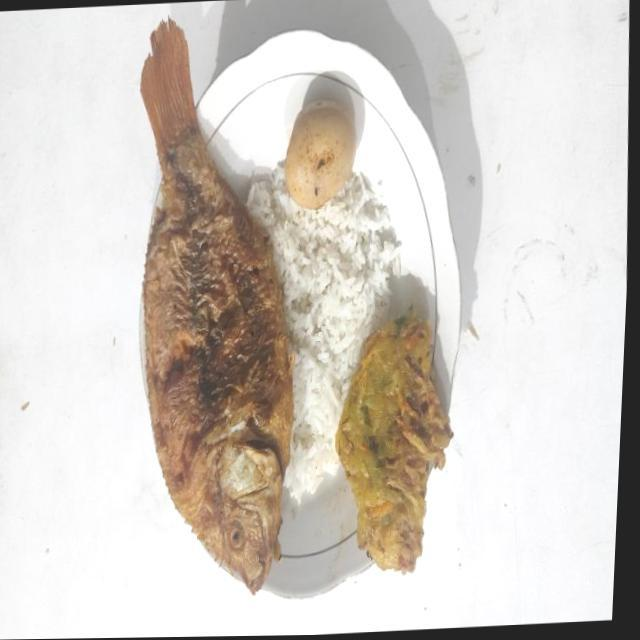ikan_mujair: (140, 19, 293, 594)
nasi_putih: (247, 162, 401, 504)
